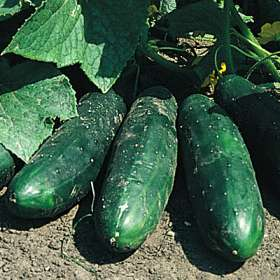cucumber: (6, 91, 128, 230), (175, 94, 267, 261), (91, 84, 178, 254)
